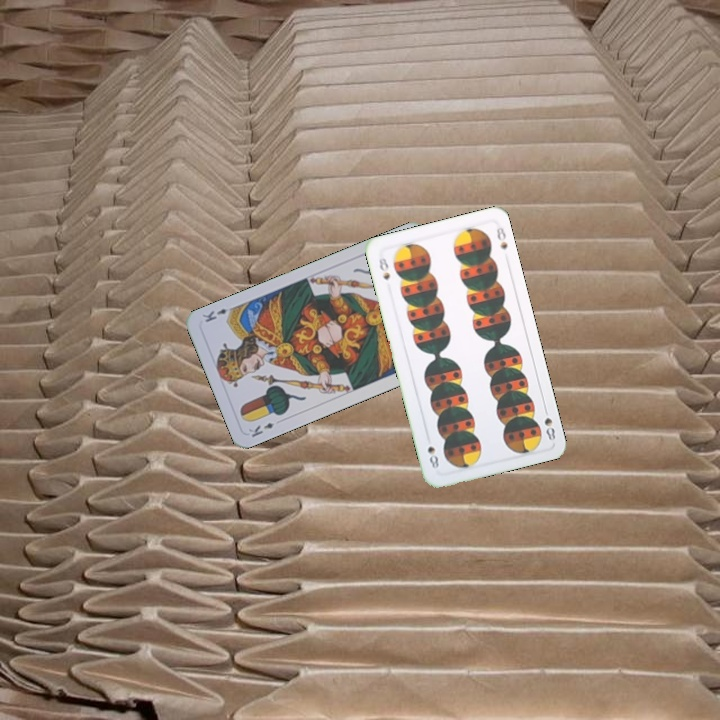EK: (244, 418, 277, 440)
S8: (540, 403, 558, 443), (374, 251, 392, 283)
